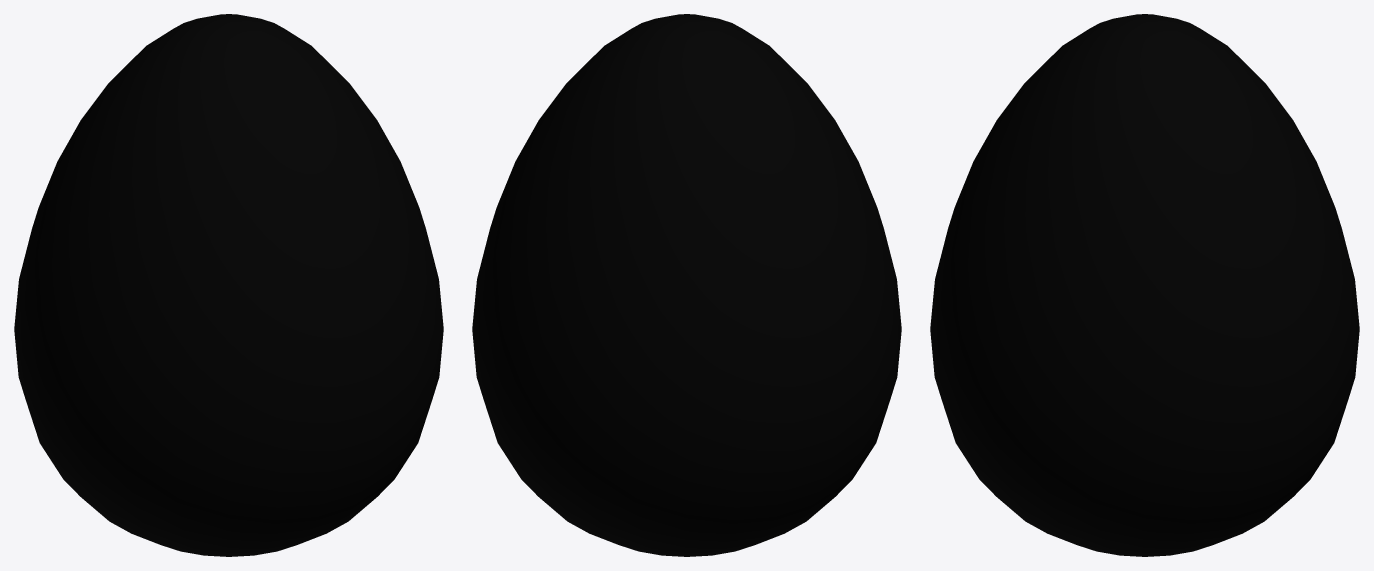
Rendered from single_egg.glb.
3 views of the same model, side by side, from view 1: azimuth 30°, elevation 25°; view 2: azimuth 150°, elevation 25°; view 3: azimuth 270°, elevation 25° (orthographic).
Visible parts, largest first — view 1: Egg; view 2: Egg; view 3: Egg.
Part boxes in pixels (<box>): Egg: <box>14,14,443,556</box>; Egg: <box>472,14,901,556</box>; Egg: <box>930,14,1359,556</box>.
Size of the model in its own units: 0.5882 by 0.775 by 0.5882.
1 material, 1 textured.
